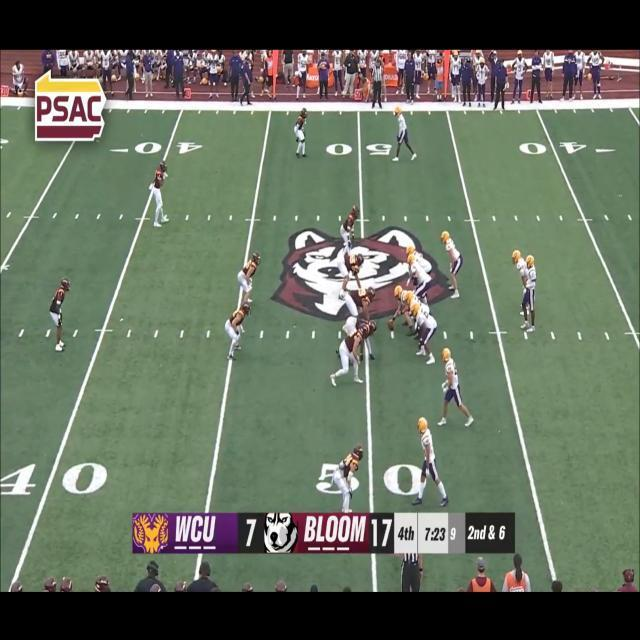football: (388, 318, 397, 332)
